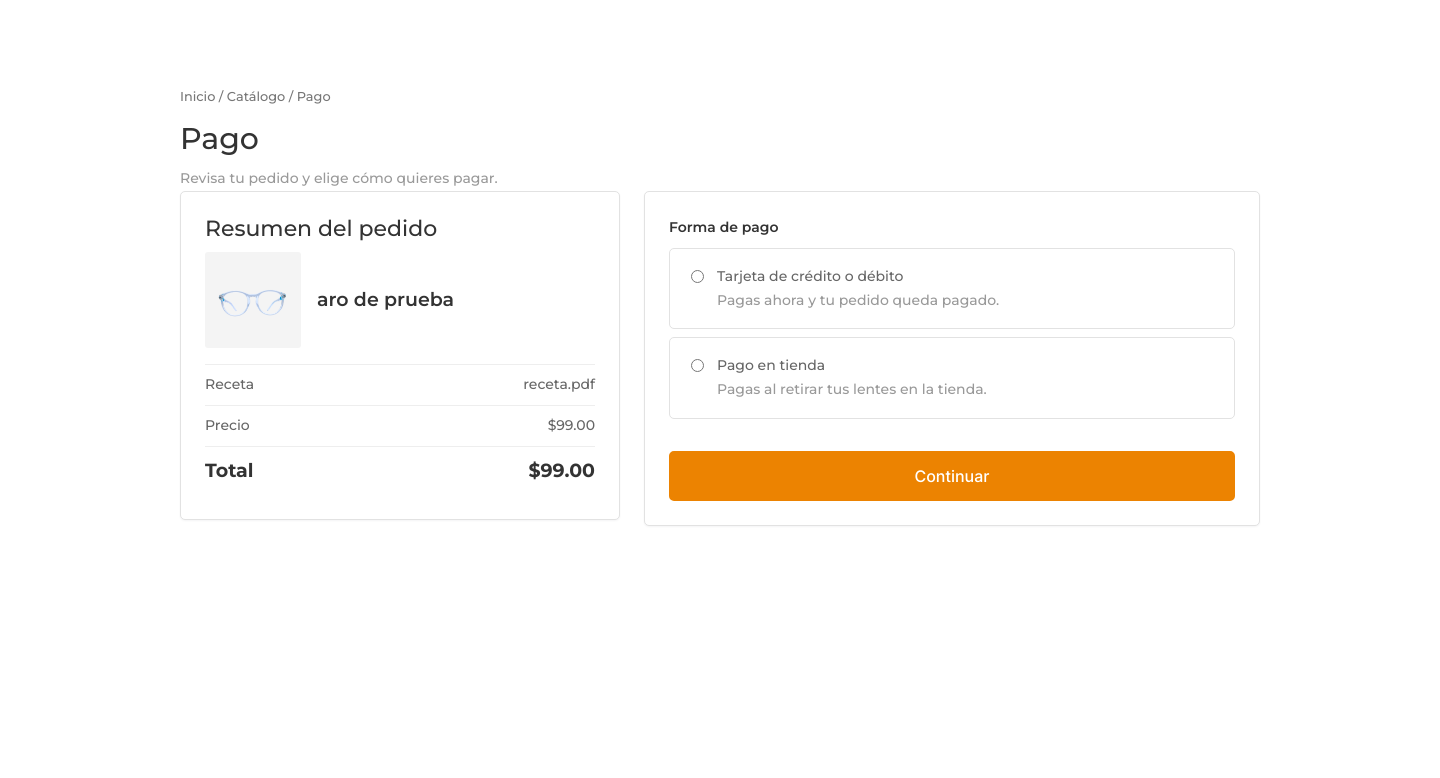
Test: PaymentPage: resumen y selector › muestra el formulario de tarjeta solo con esa forma de pago
The width and height of the screenshot is (1440, 778).
Check: the button "Continuar" is shown, box [669,451,1235,501]
Click the radio button labelled "Tarjeta de crédito o débito" at (698, 276), box [691,270,704,283]
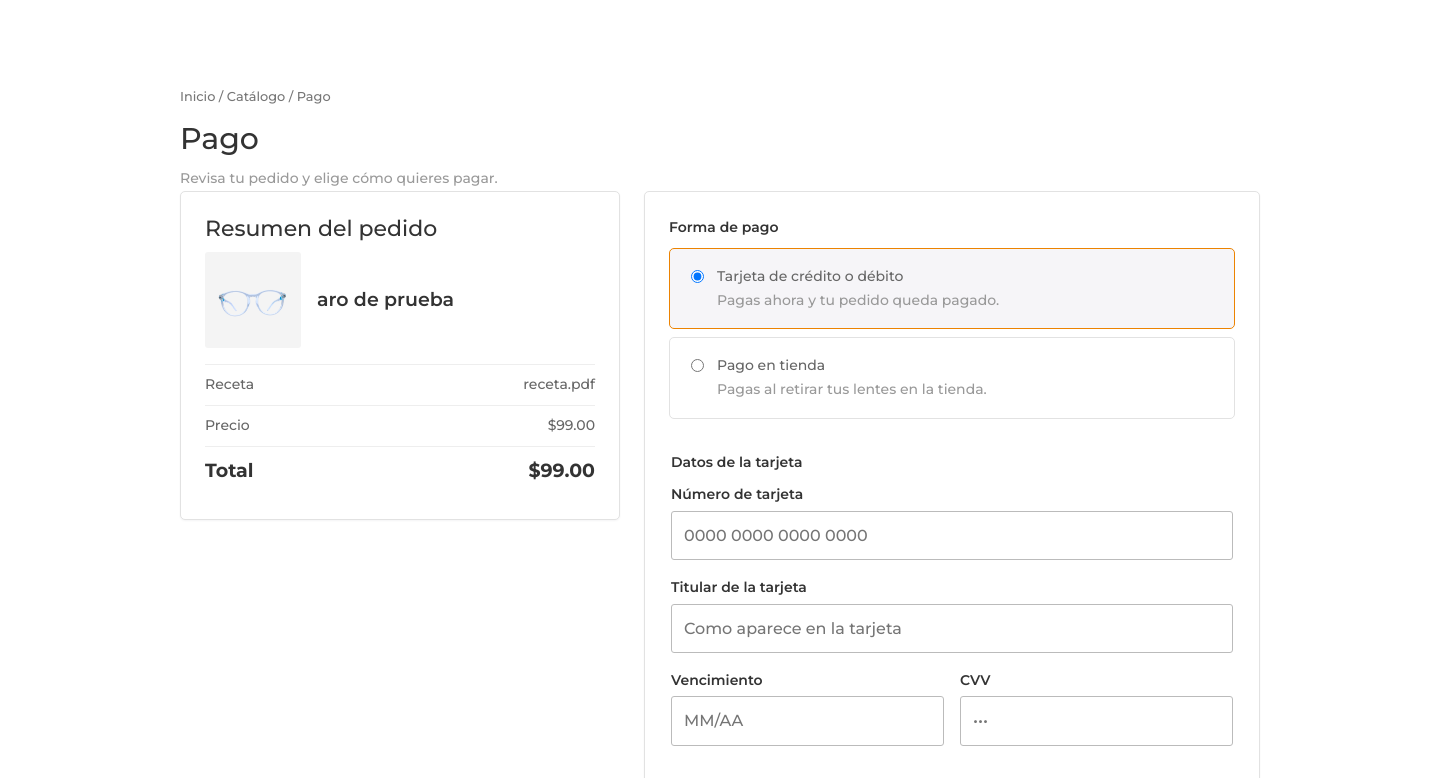
Check: the field labelled "Número de tarjeta" is shown, box [671,510,1233,560]
Click the radio button labelled "Pago en tienda Pagas al retirar tus lentes en la tienda." at (698, 366), box [691,359,704,372]
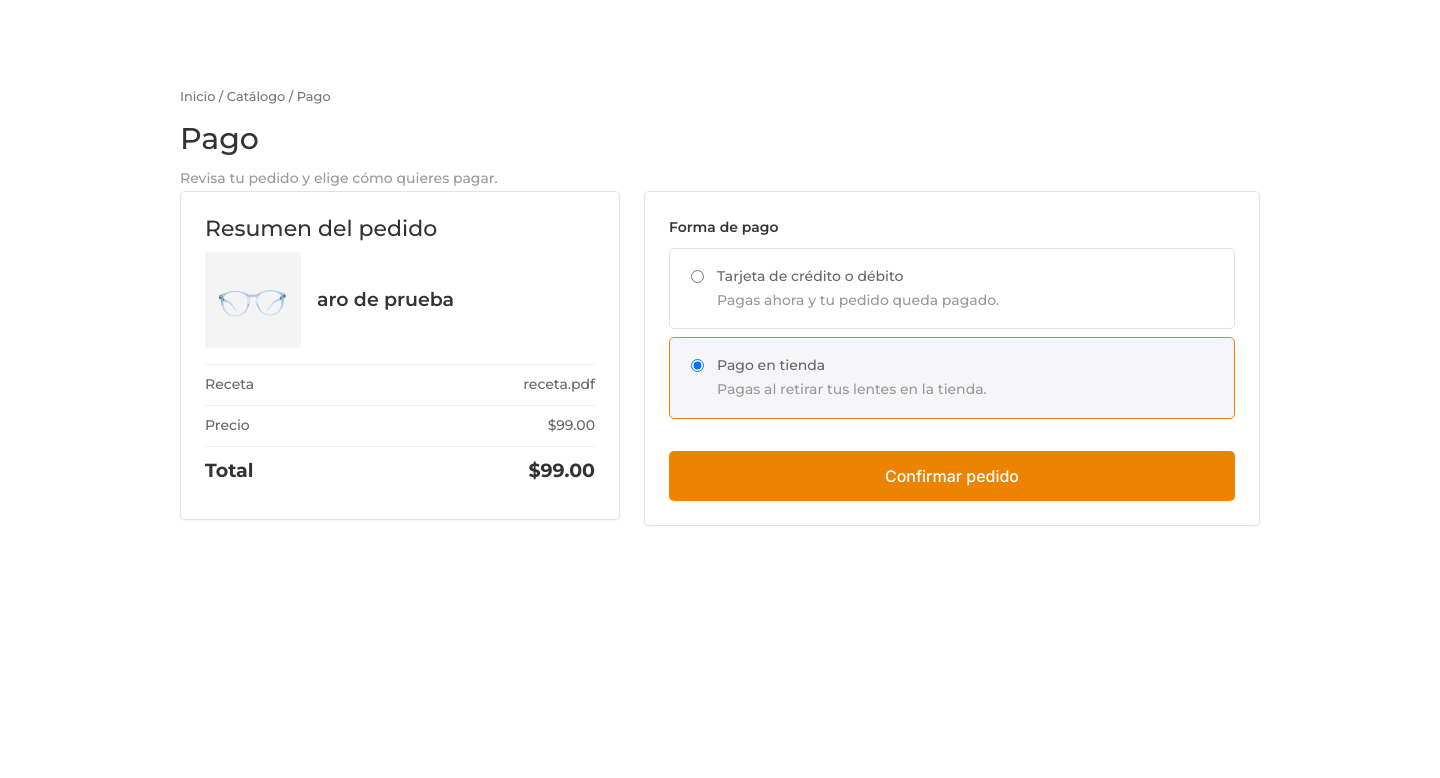
Check: the label labelled "Número de tarjeta" is gone
Check: the button "Confirmar pedido" is shown, box [669,451,1235,501]
